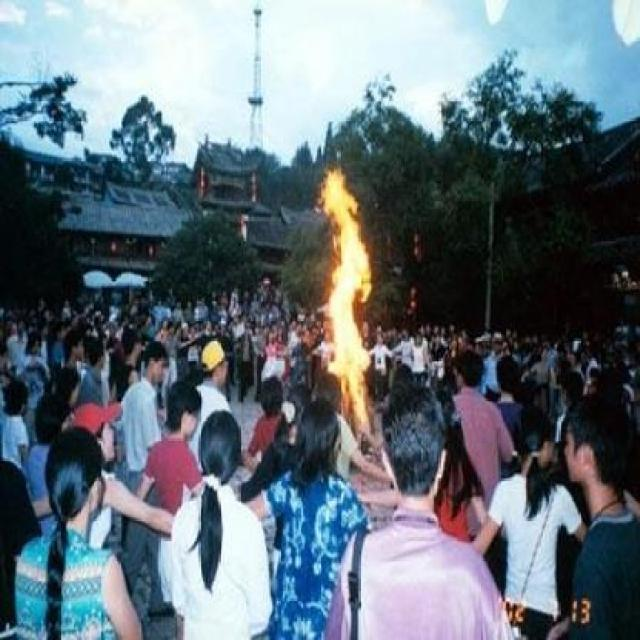Fire: (315, 165, 378, 448)
